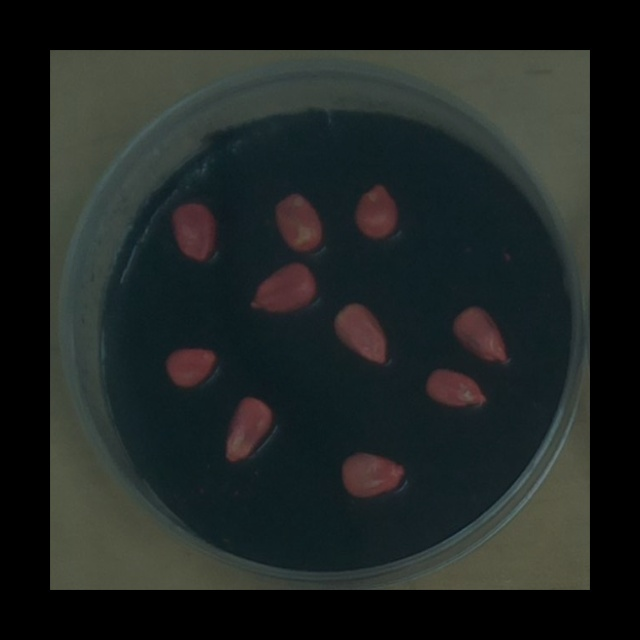Zea mays: (326, 295, 396, 373), (242, 255, 324, 320), (218, 389, 279, 468), (447, 299, 516, 368), (334, 443, 412, 502), (162, 196, 224, 268), (268, 185, 326, 257), (347, 176, 404, 246), (420, 360, 492, 414), (158, 341, 223, 393)
